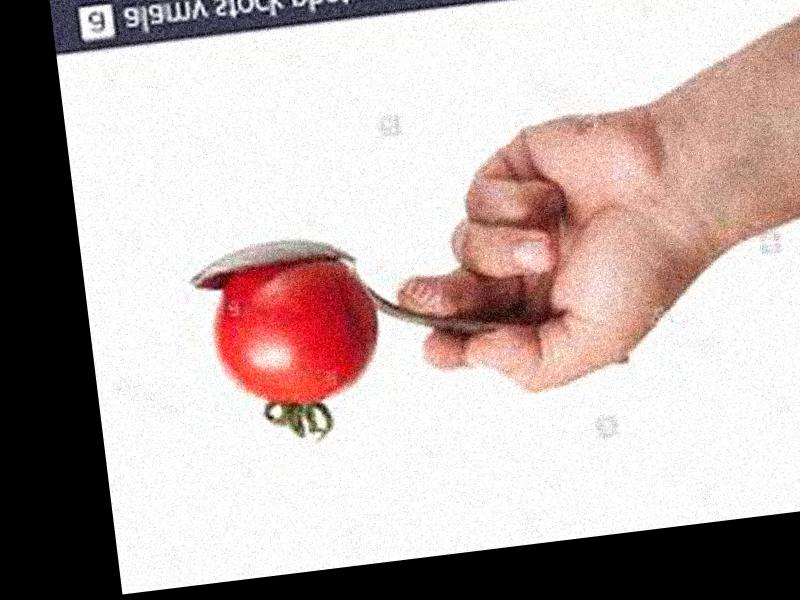Tomato: (209, 254, 387, 414)
